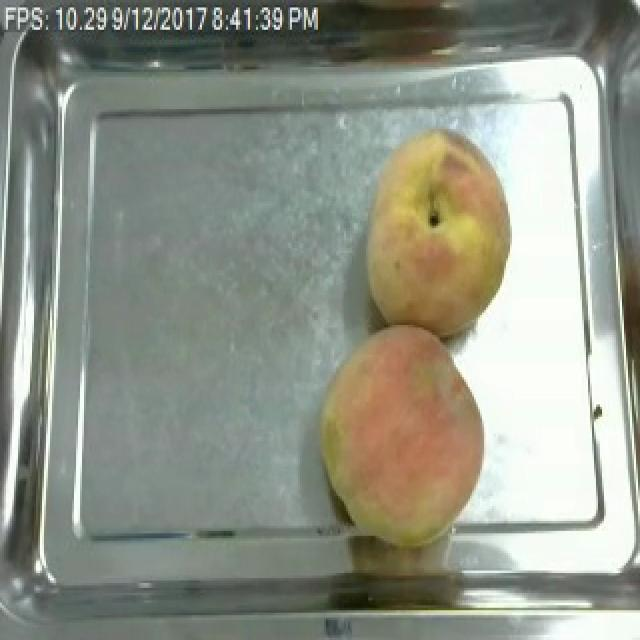Fruit: (308, 318, 494, 550), (352, 117, 520, 342)
